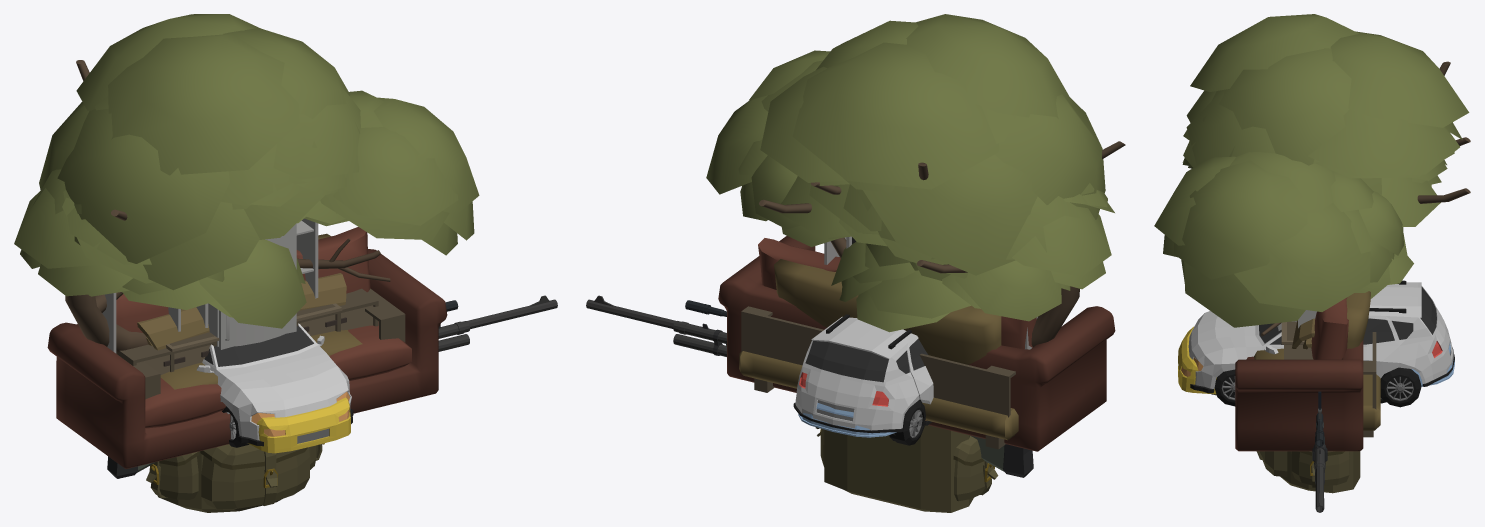
File: props.glb
3 views of the same model, side by side, from view 1: azimuth 30°, elevation 25°; view 2: azimuth 150°, elevation 25°; view 3: azimuth 270°, elevation 25° (orthographic). The views are drawn at different scales.
Visible parts, largest first — view 1: Tree_9, Tree_7, Couch_Large1, Tree_10, Backpack, SUV, Couch_Medium2, Taxi, Drawer_2, Kitchen_Fridge, Shelf_Large, Drawer_1 (+4 smaller); view 2: Tree_7, Tree_9, Couch_Medium2, Couch_Large1, Tree_10, SUV, Backpack, SniperRifle_1, Shotgun_1, SUV_BackWheels, NormalCar1; view 3: Tree_7, Tree_9, Couch_Large1, SUV, Backpack, Couch_Medium2, SUV_BackWheels, Tree_10, Taxi, Tree_1, SniperRifle_1, Drawer_2 (+1 smaller).
Part boxes in pixels (x1=…): Tree_9: x1=20, y1=90, x2=479, y2=296; Tree_7: x1=74, y1=14, x2=360, y2=294; Couch_Large1: x1=47, y1=227, x2=447, y2=468; Tree_10: x1=14, y1=169, x2=306, y2=354; Backpack: x1=137, y1=273, x2=346, y2=512; SUV: x1=196, y1=323, x2=353, y2=446; Couch_Medium2: x1=133, y1=233, x2=405, y2=399; Taxi: x1=248, y1=397, x2=350, y2=453; Drawer_2: x1=118, y1=288, x2=378, y2=374; Kitchen_Fridge: x1=208, y1=223, x2=296, y2=349; Shelf_Large: x1=102, y1=218, x2=318, y2=353; Drawer_1: x1=170, y1=304, x2=340, y2=372; Tree_7: x1=738, y1=14, x2=1094, y2=280; Tree_9: x1=706, y1=50, x2=1105, y2=321; Couch_Medium2: x1=739, y1=259, x2=1018, y2=449; Couch_Large1: x1=718, y1=236, x2=1115, y2=451; Tree_10: x1=831, y1=190, x2=1114, y2=347; SUV: x1=793, y1=314, x2=933, y2=433; Backpack: x1=815, y1=425, x2=998, y2=512; SniperRifle_1: x1=586, y1=295, x2=1033, y2=477; Shotgun_1: x1=673, y1=321, x2=726, y2=356; SUV_BackWheels: x1=892, y1=401, x2=925, y2=445; NormalCar1: x1=798, y1=403, x2=896, y2=437; Tree_7: x1=1182, y1=14, x2=1469, y2=282; Tree_9: x1=1154, y1=90, x2=1470, y2=327; Couch_Large1: x1=1235, y1=297, x2=1363, y2=451; SUV: x1=1188, y1=280, x2=1454, y2=393; Backpack: x1=1256, y1=318, x2=1360, y2=493; Couch_Medium2: x1=1254, y1=291, x2=1380, y2=437; SUV_BackWheels: x1=1214, y1=367, x2=1421, y2=407; Tree_10: x1=1355, y1=137, x2=1470, y2=298; Taxi: x1=1178, y1=326, x2=1385, y2=401; Tree_1: x1=1188, y1=123, x2=1452, y2=183; SniperRifle_1: x1=1315, y1=466, x2=1324, y2=512; Drawer_2: x1=1284, y1=345, x2=1313, y2=359.
Size of the model in its own units: 8.54 by 7.35 by 4.94.
